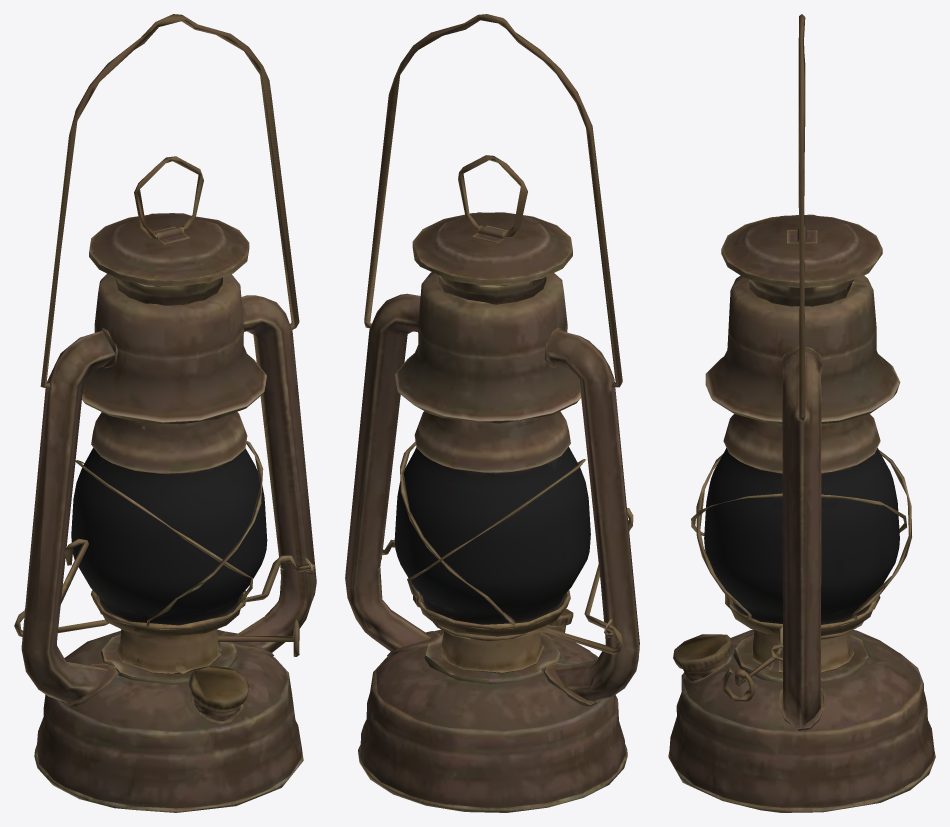
Rendered from Lantern_01.glb.
The picture shows the model from 3 angles, left to right: view 1: azimuth 30°, elevation 25°; view 2: azimuth 150°, elevation 25°; view 3: azimuth 270°, elevation 25°; orthographic projection.
Parts seen in each view (by area): view 1: Lantern_01, Lantern_01_glass; view 2: Lantern_01, Lantern_01_glass; view 3: Lantern_01, Lantern_01_glass.
Boxes of the visible parts, left/top/right/bottom form: Lantern_01: left=14, top=14, right=316, bottom=812; Lantern_01_glass: left=71, top=447, right=267, bottom=625; Lantern_01: left=345, top=14, right=639, bottom=812; Lantern_01_glass: left=394, top=447, right=590, bottom=624; Lantern_01: left=668, top=14, right=935, bottom=812; Lantern_01_glass: left=704, top=448, right=899, bottom=624.
Size of the model in its own units: 0.1221 by 0.2938 by 0.0964.
Materials: 2 (2 with a texture image).
